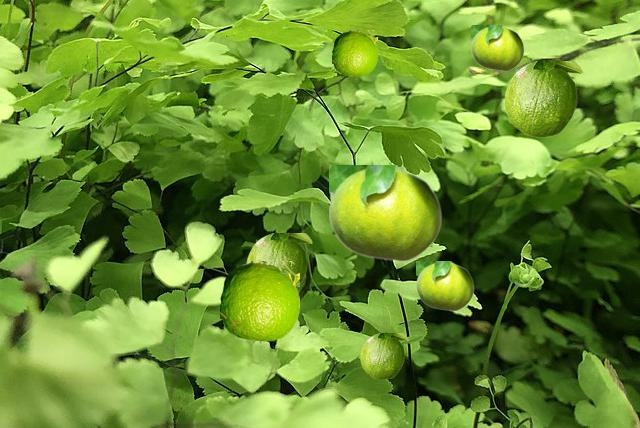dalandan: (329, 165, 441, 261), (220, 261, 298, 340), (504, 61, 582, 136), (246, 233, 311, 286), (416, 261, 473, 310), (471, 25, 523, 70), (360, 333, 407, 378), (332, 30, 376, 75)
